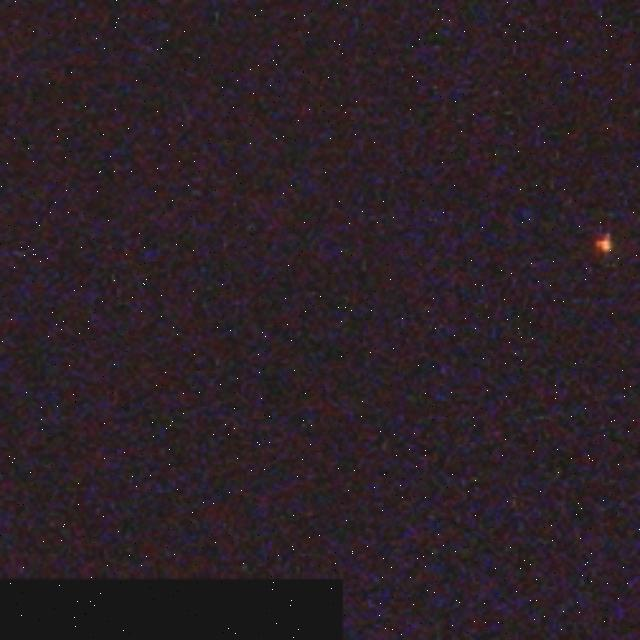Fragment: (594, 234, 618, 256)
